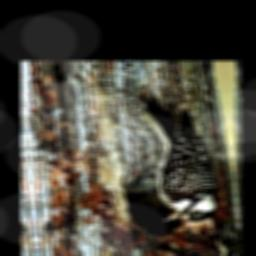Woodpecker: (136, 90, 220, 226)
